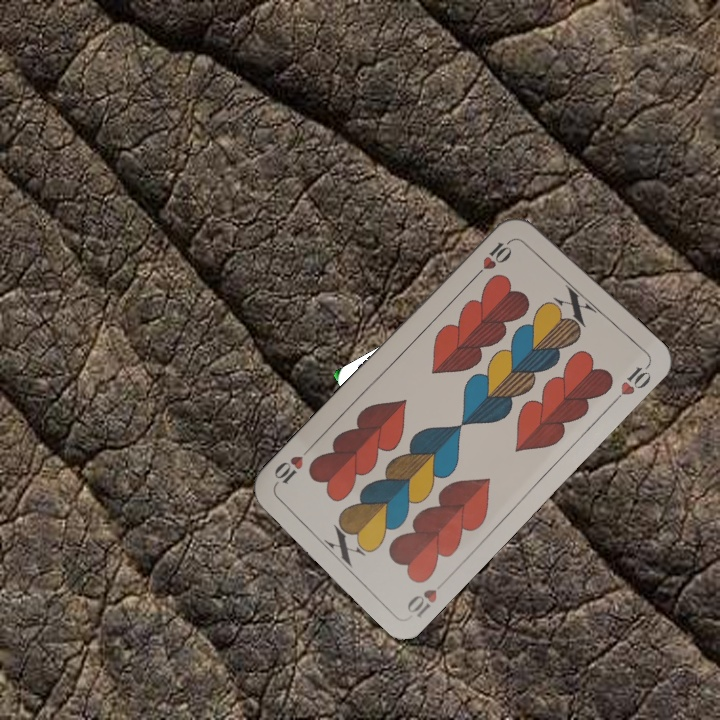H10: (471, 234, 518, 280), (402, 585, 440, 621)
